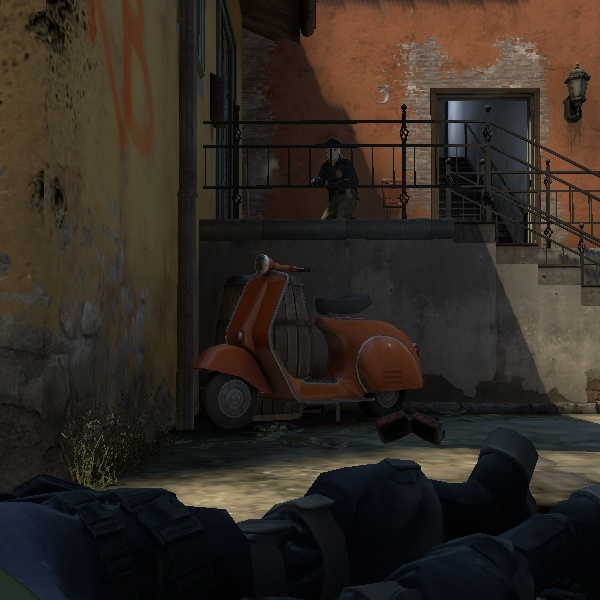ct_body: (308, 140, 368, 219)
